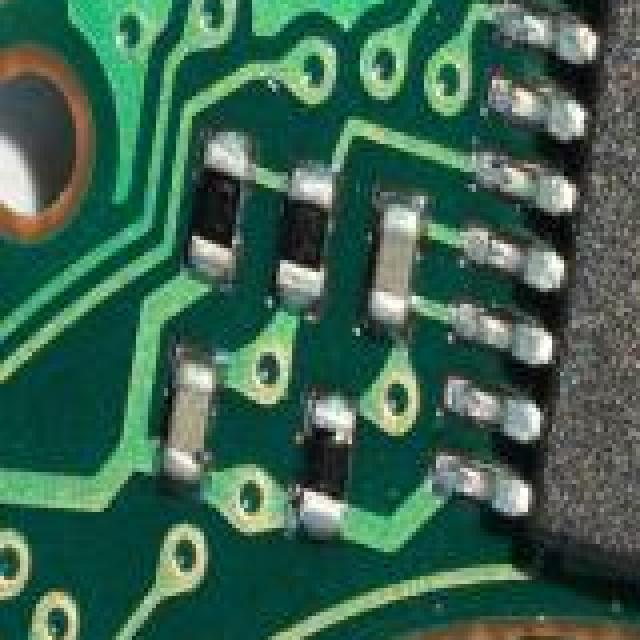IC: (472, 0, 640, 640)
capacitor: (136, 344, 234, 484), (368, 180, 416, 358)
resistor: (184, 124, 256, 282), (272, 128, 318, 322), (288, 400, 346, 544)
